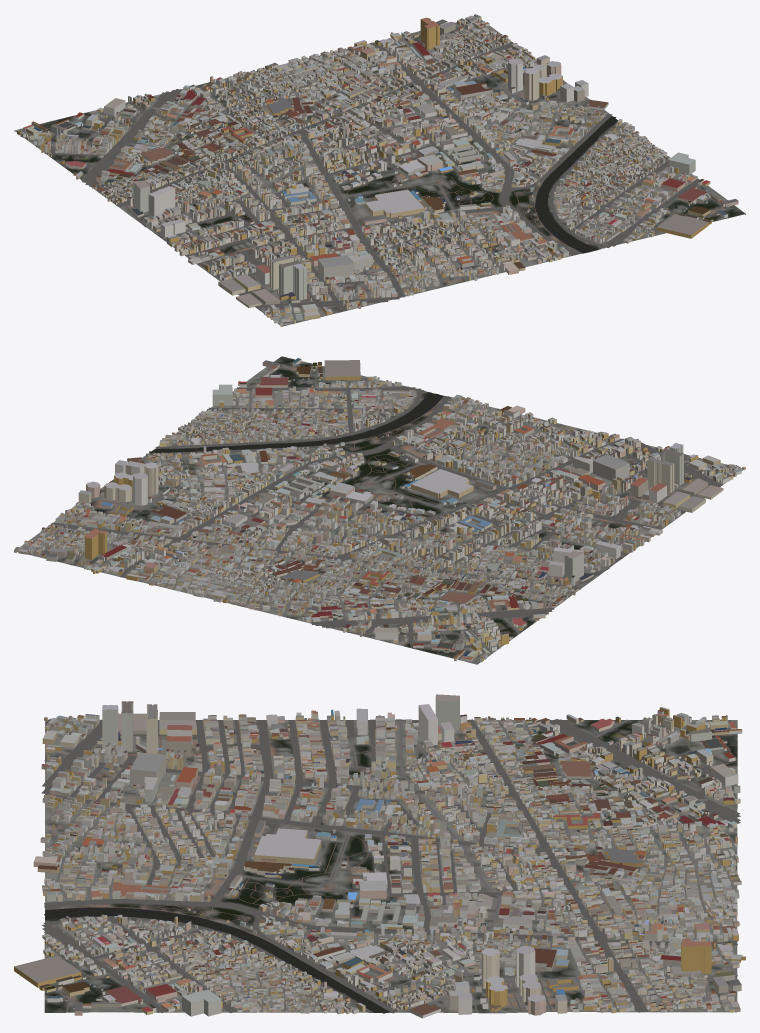
3 views of the same model, one above another, from view 1: azimuth 30°, elevation 25°; view 2: azimuth 150°, elevation 25°; view 3: azimuth 270°, elevation 25° (orthographic). The views are drawn at different scales.
Parts seen in each view (by area): view 1: buildings, ground, roads, water; view 2: buildings, ground, roads, water; view 3: buildings, ground, roads, water.
Part boxes in pixels (left/top/right/bottom): buildings: left=17, top=14, right=738, bottom=326; ground: left=14, top=19, right=745, bottom=326; roads: left=17, top=20, right=737, bottom=323; water: left=535, top=116, right=617, bottom=253; buildings: left=14, top=358, right=745, bottom=662; ground: left=17, top=356, right=743, bottom=664; roads: left=27, top=363, right=726, bottom=663; water: left=149, top=392, right=443, bottom=453; buildings: left=14, top=694, right=745, bottom=1018; ground: left=44, top=719, right=737, bottom=1013; roads: left=41, top=719, right=740, bottom=1013; water: left=44, top=907, right=389, bottom=1013.
Size of the model in its own units: 1445 by 93.69 by 1480.
